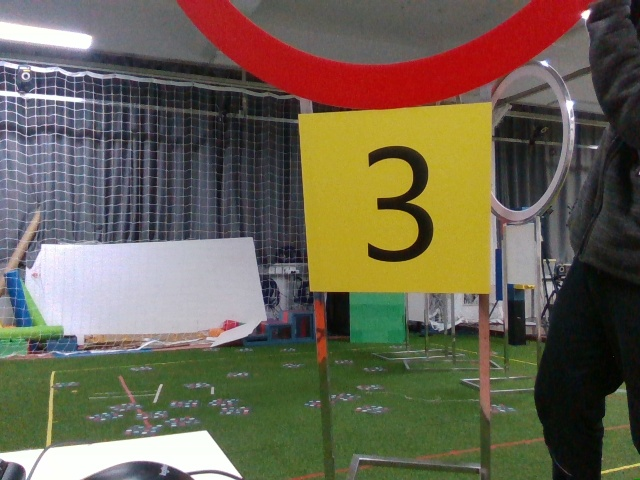target: (304, 114, 489, 289)
